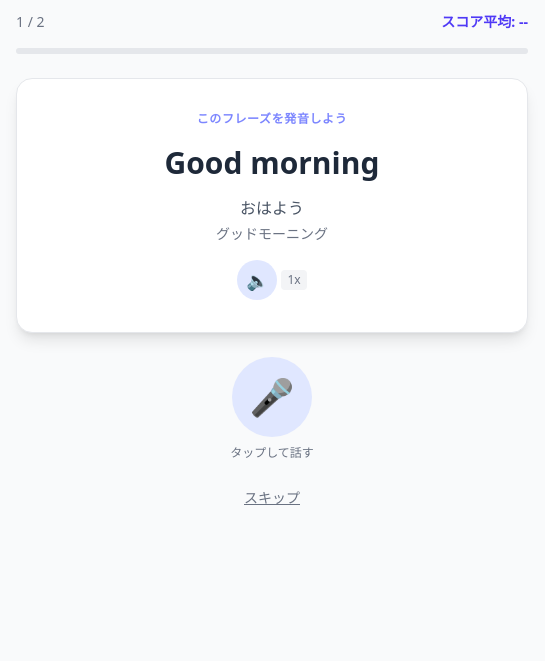
PronunciationPractice › advances through items and shows an average score on the results screen
Item 1: perfect
Click the button named "録音して発音する".
click(272, 397)  # box top-left (232, 357), bottom-right (312, 437)
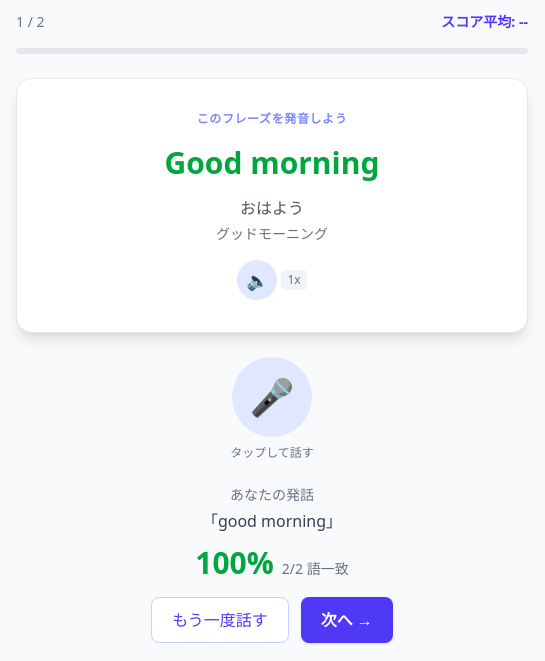
Click the button "次へ →".
click(347, 620)  # box top-left (301, 597), bottom-right (393, 643)
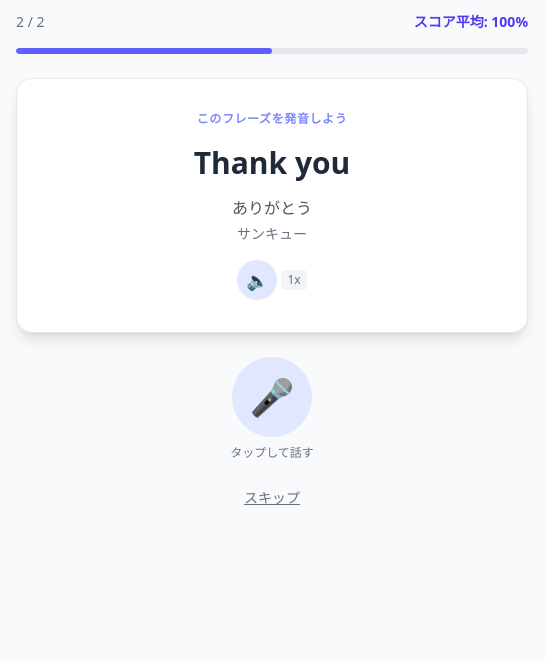
Expected: the text "Thank you" is shown, top-left (194, 142), bottom-right (350, 183)
Click the button named "録音して発音する".
click(272, 397)  # box top-left (232, 357), bottom-right (312, 437)
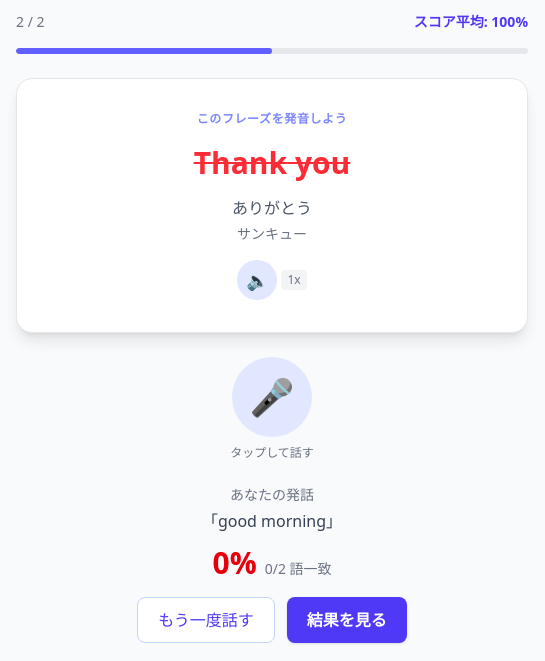
Click the button "結果を見る".
click(347, 620)  # box top-left (287, 597), bottom-right (407, 643)
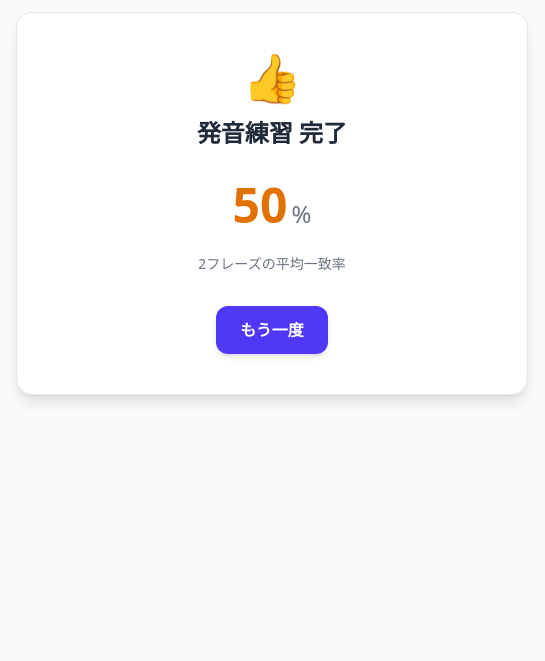
Expected: the heading "発音練習 完了" is shown, top-left (197, 116), bottom-right (347, 149)
